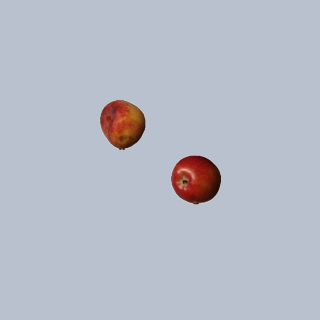Apple Braeburn: (170, 154, 220, 204)
Peach: (97, 99, 147, 149)
